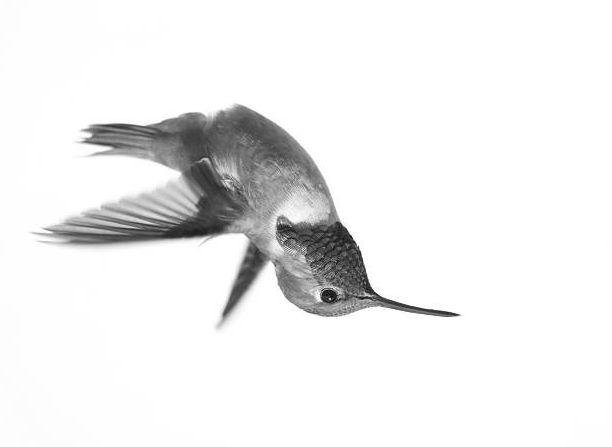Bird: (31, 99, 464, 339)
